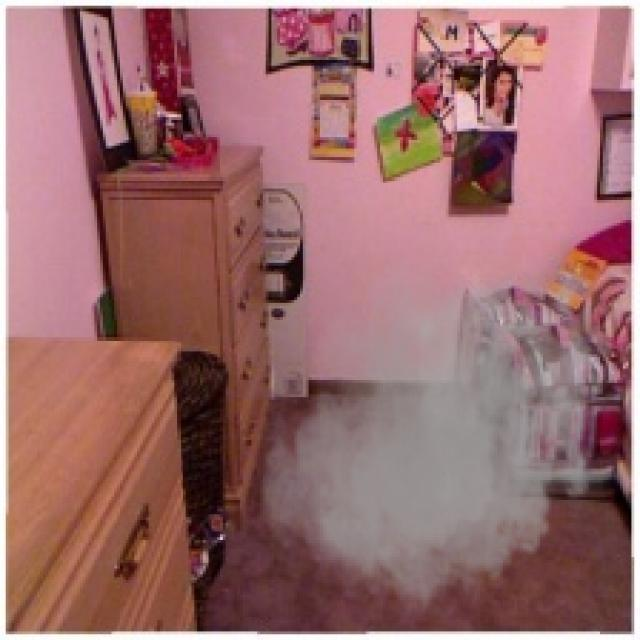Smoke: (248, 243, 618, 626)
